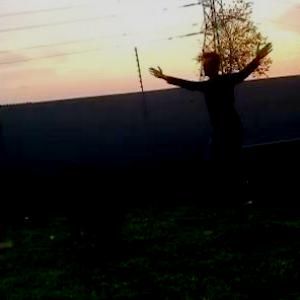takeoff: (167, 56, 273, 189)
